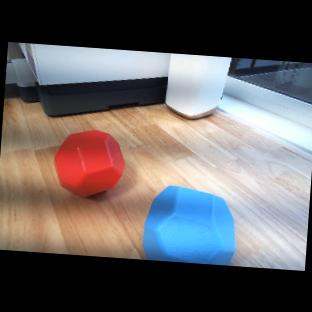V5_BLUE: (141, 183, 240, 266)
V5_RED: (51, 127, 127, 203)
